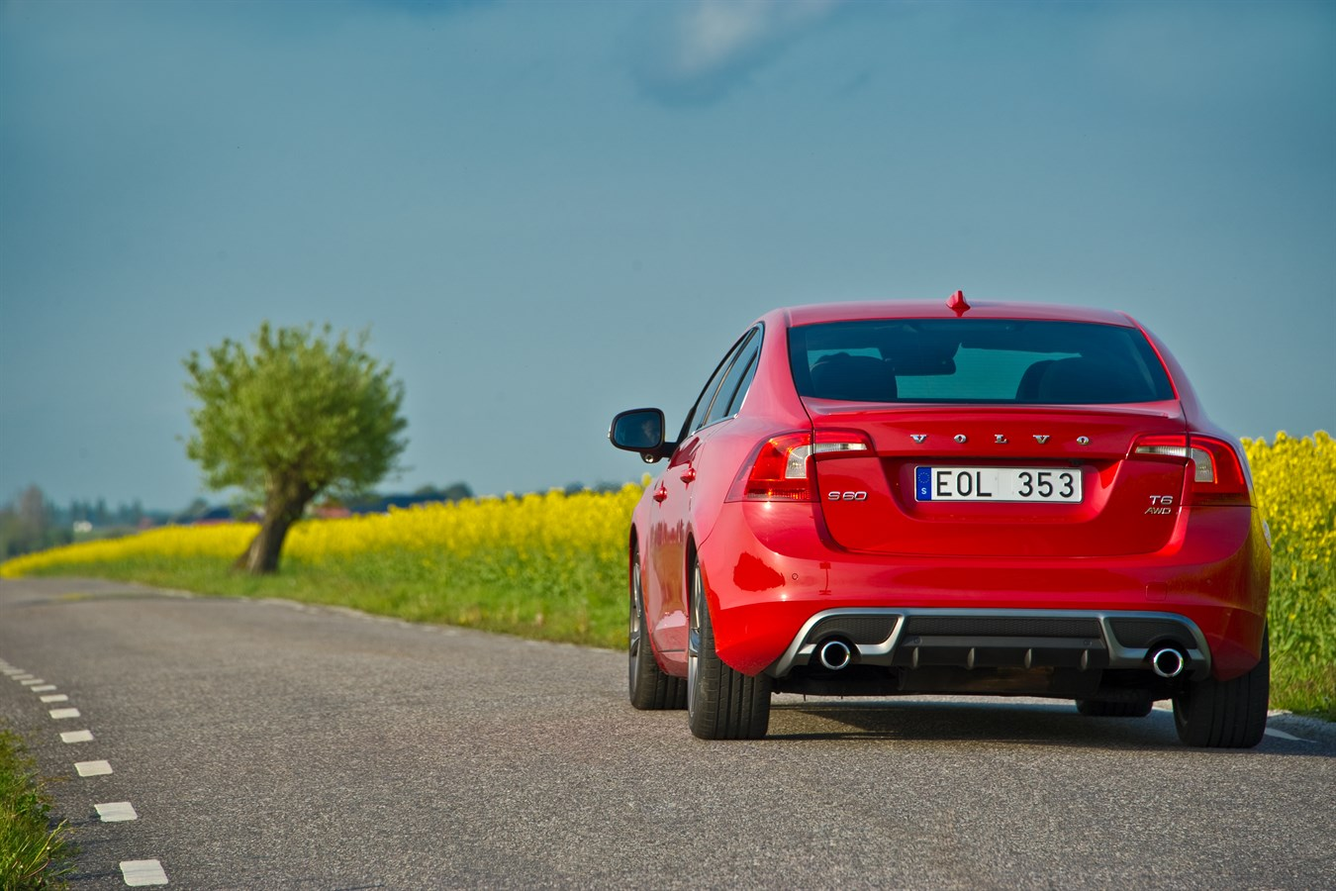other: (618, 284, 1279, 770)
